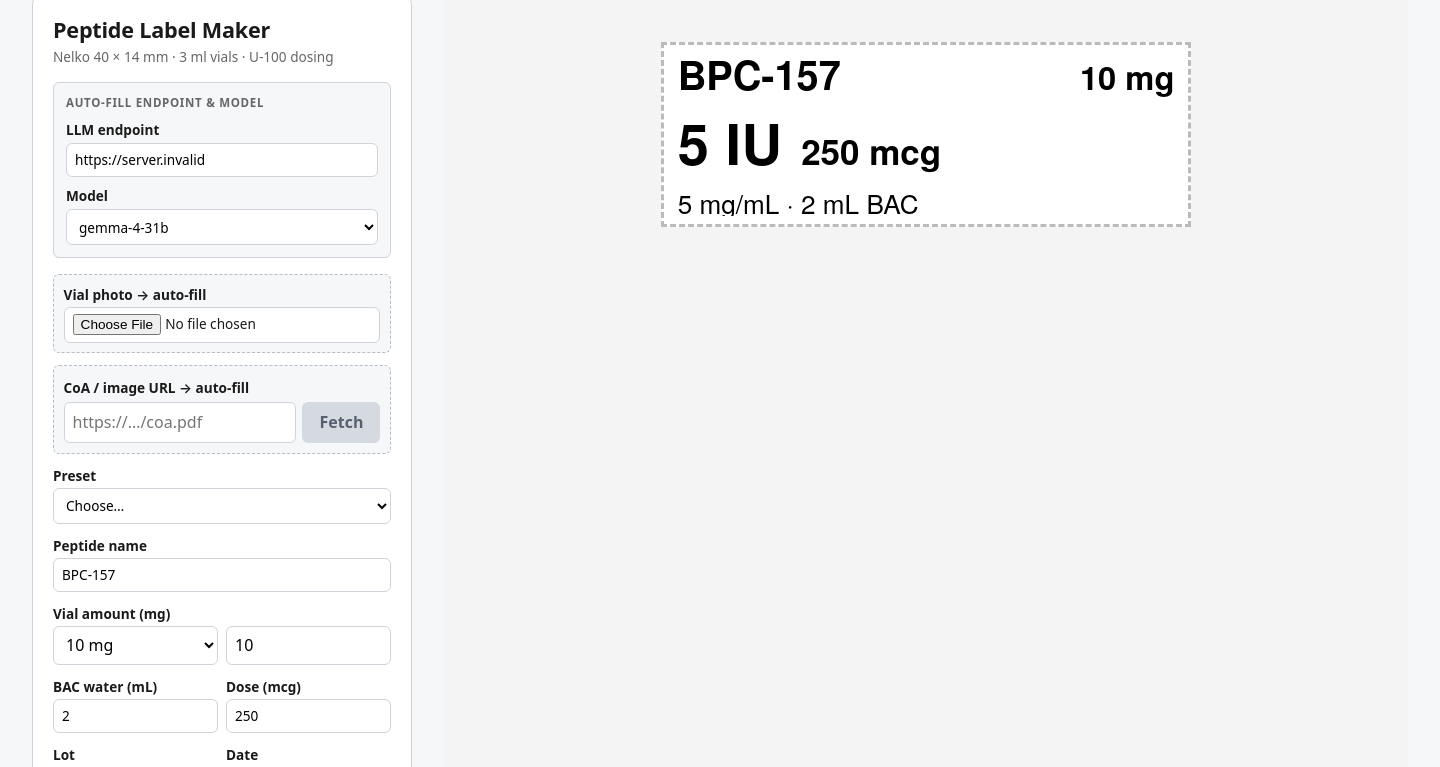
Test case: App › uses the CoA measured mass to drive dosing (and the printed amount)
The image size is (1440, 767).
Type "https://coa.vendor.com/a.pdf" into the field named "CoA / image URL → auto-fill" at (180, 422), box [64,402,296,443]
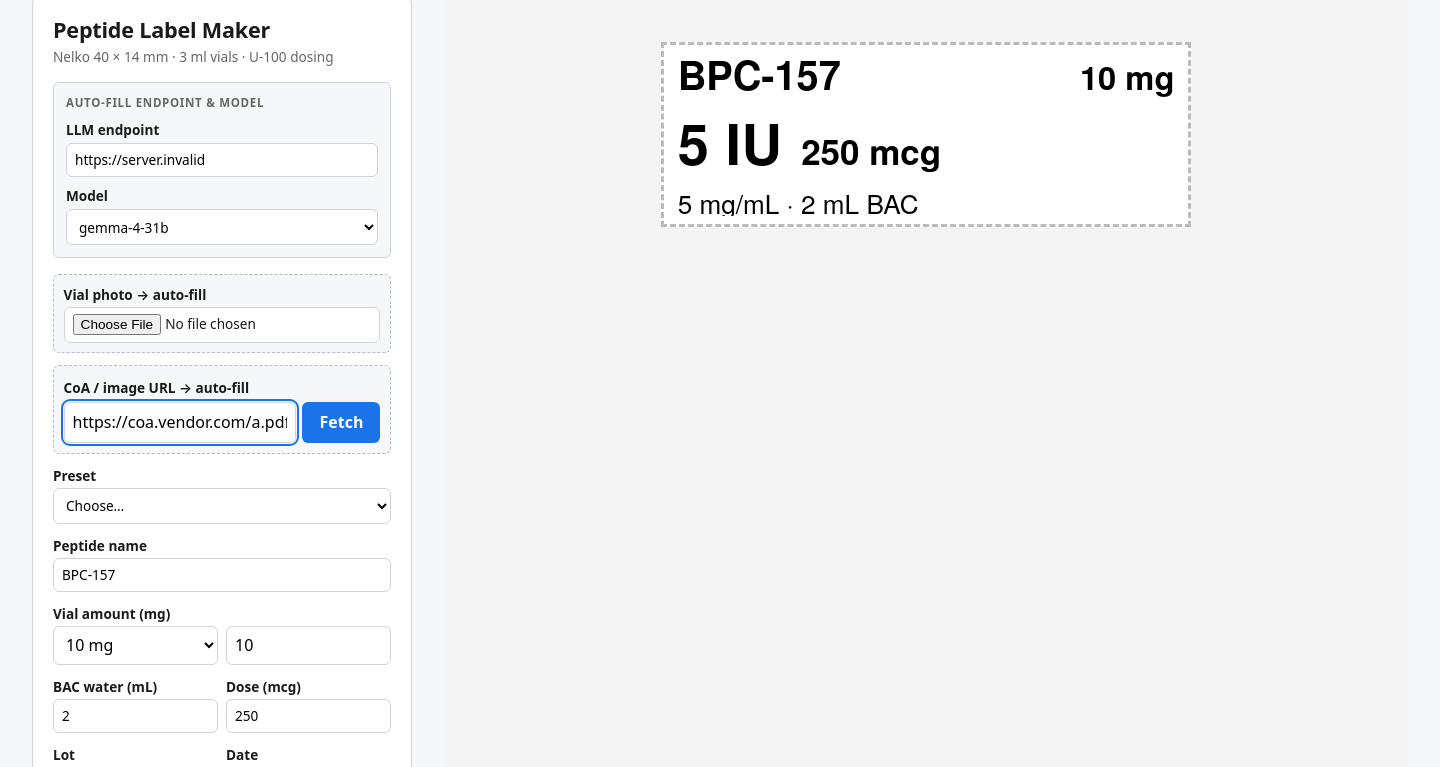
Click the button "Fetch" at (341, 422), box [302,402,380,443]
(page scrolled)
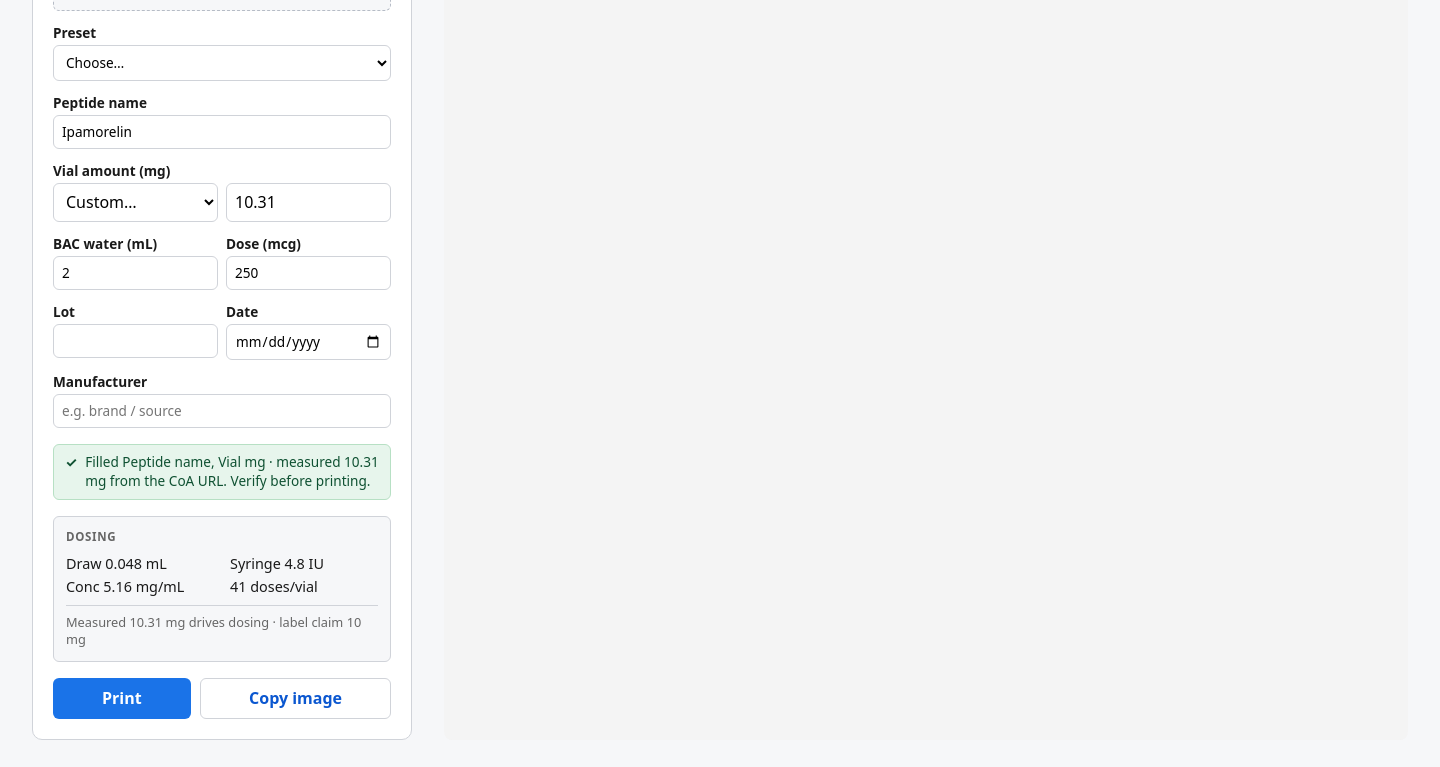
Result: the number field named "Vial mg" holds "10.31" at [226,183,391,222]
Result: the text "Measured 10.31 mg drives dosing · label claim 10 mg" is shown at [66,605,378,649]
